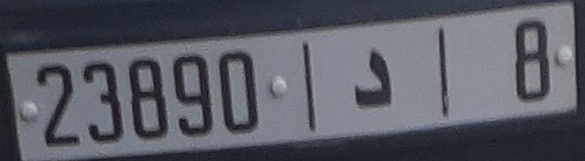0: (215, 50, 260, 136)
2: (33, 62, 81, 151)
3: (81, 60, 124, 145)
8: (510, 14, 553, 105), (126, 55, 168, 142)
9: (170, 53, 215, 139)
d: (350, 46, 401, 111)
